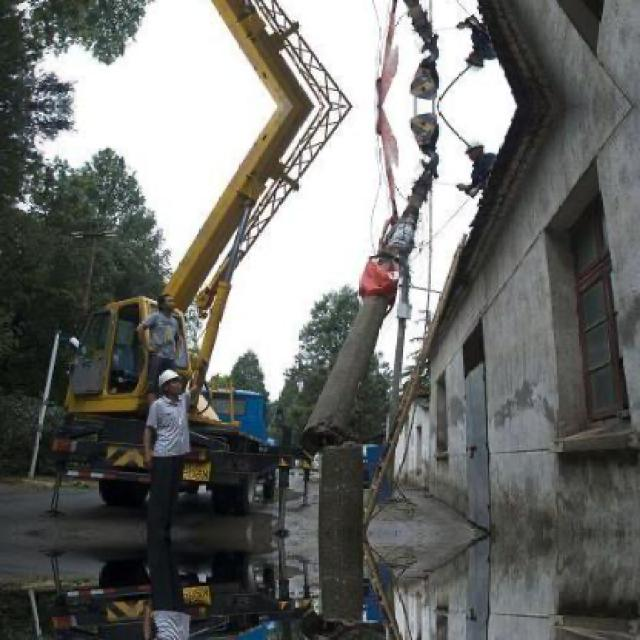con casco: (140, 346, 207, 426)
